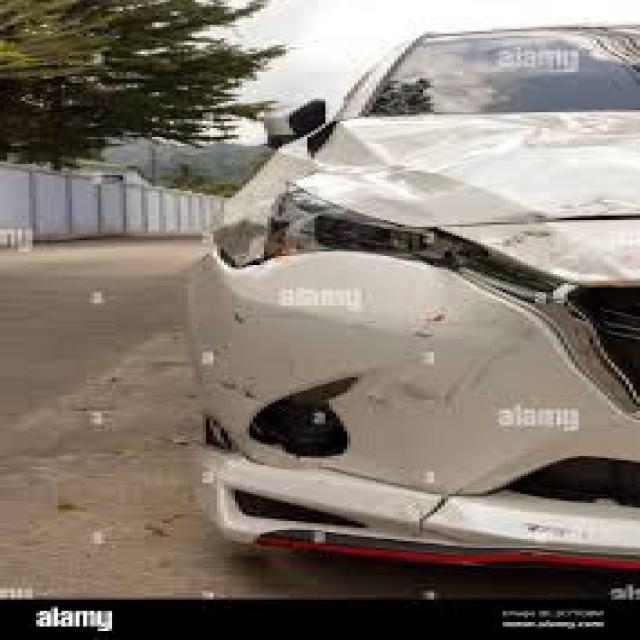severe: (181, 155, 640, 561)
